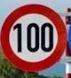Gioi han toc do: (1, 3, 67, 71)
